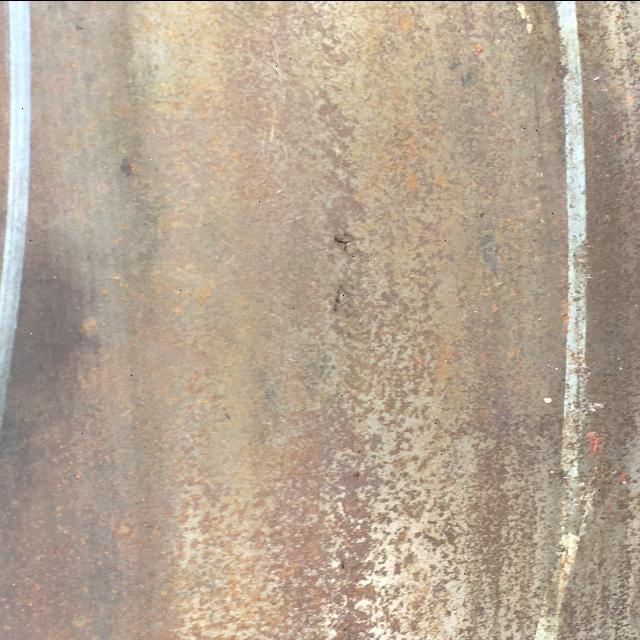boli: (310, 209, 378, 267), (88, 146, 158, 182)
